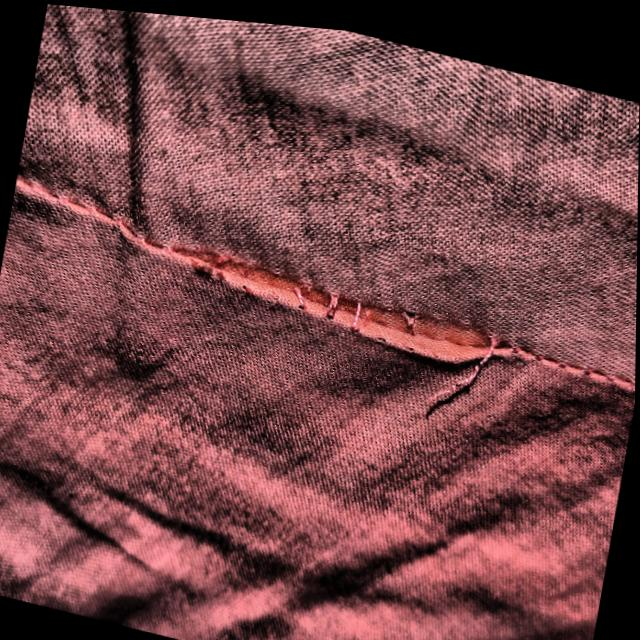seam: (114, 189, 582, 427)
